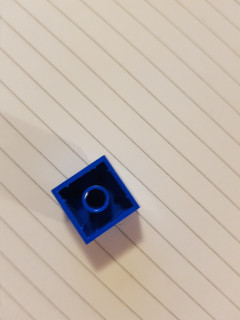2x2 blue: (49, 154, 142, 246)
